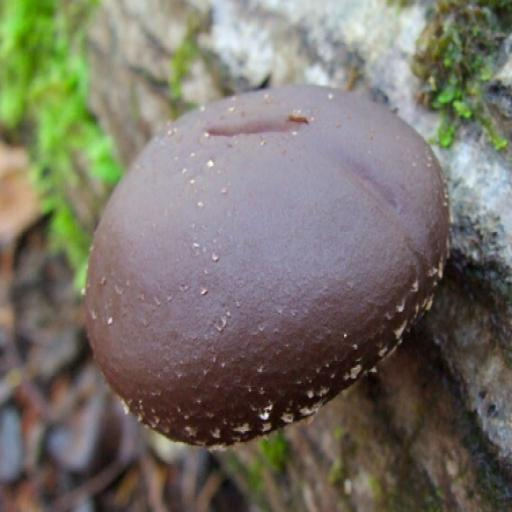Shiitake Mushroom: (25, 27, 503, 472)
